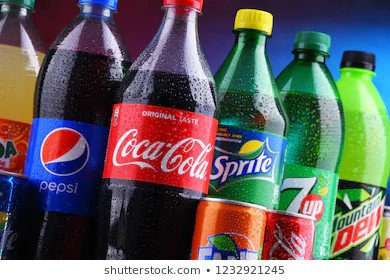coke-bottle-700ml: (93, 1, 227, 258)
